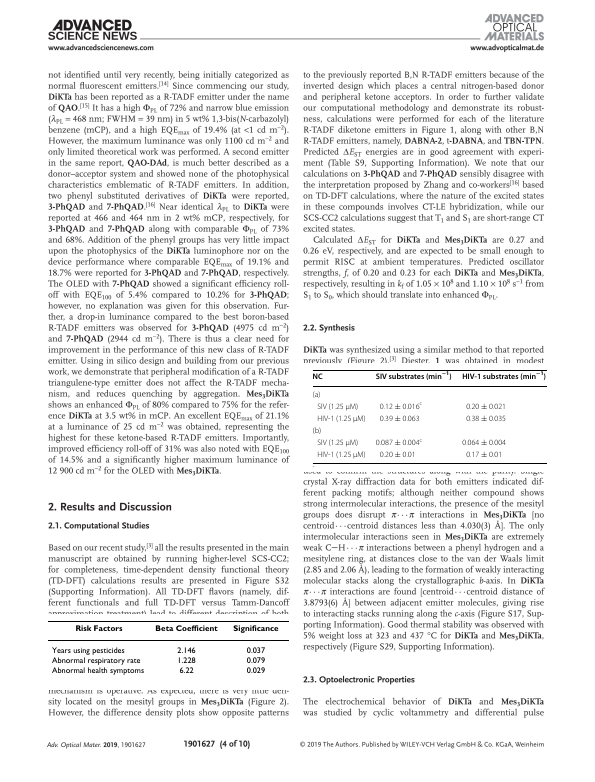borderless: (311, 368, 547, 463), (46, 619, 290, 684)
cell: (51, 666, 145, 676), (51, 656, 141, 666), (461, 371, 547, 381), (375, 371, 453, 381), (51, 646, 125, 655), (154, 624, 218, 633), (375, 437, 423, 448), (316, 414, 367, 424), (379, 401, 423, 412), (316, 451, 367, 460), (74, 624, 123, 633), (316, 402, 359, 412), (232, 624, 279, 633), (465, 402, 507, 412), (379, 414, 421, 424), (465, 414, 507, 424), (461, 439, 507, 448), (316, 439, 359, 448), (379, 451, 417, 460), (465, 451, 503, 460), (245, 656, 266, 666), (245, 666, 266, 676), (176, 656, 196, 666), (245, 646, 266, 655), (176, 646, 196, 655), (178, 666, 194, 676), (312, 372, 324, 381), (312, 390, 321, 400), (312, 427, 322, 436)
